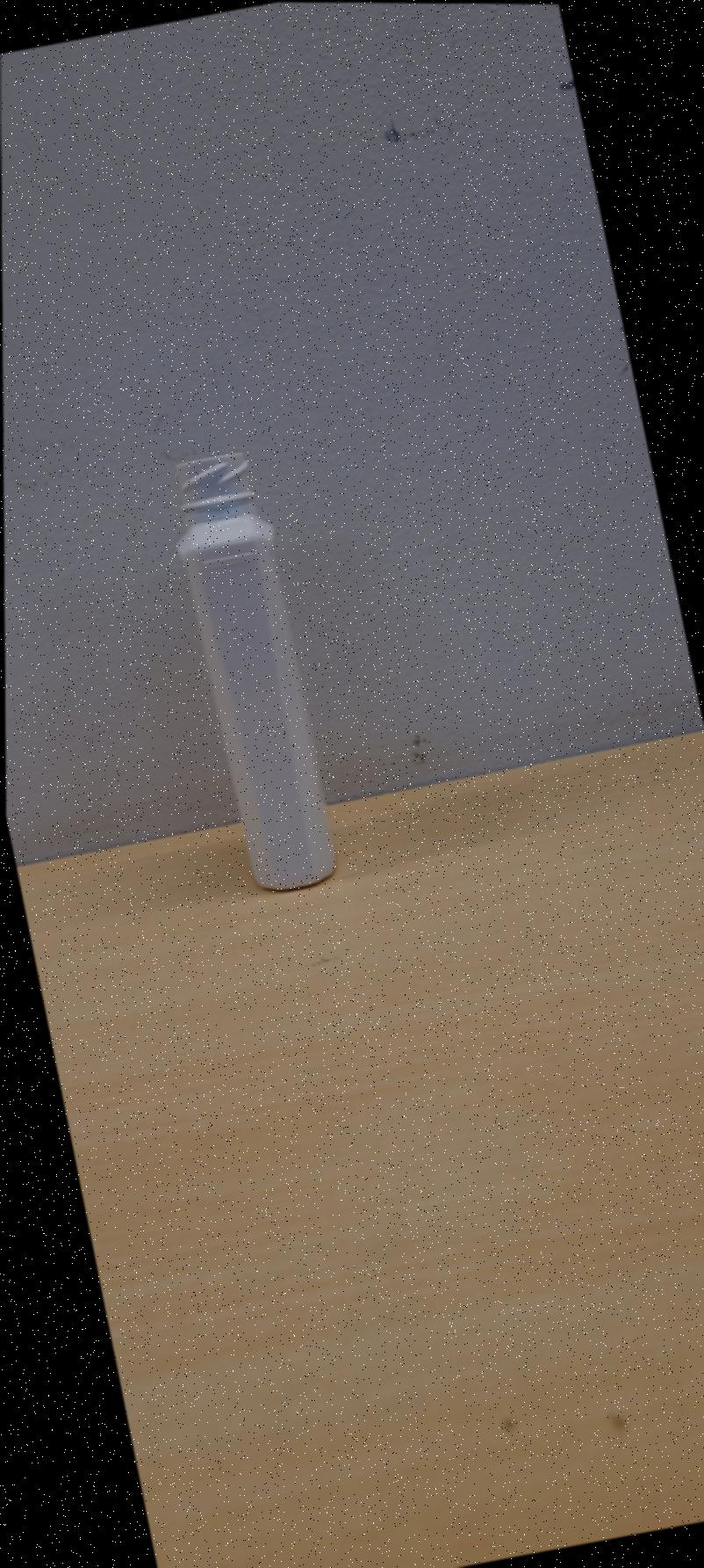bottle: (176, 452, 335, 891)
